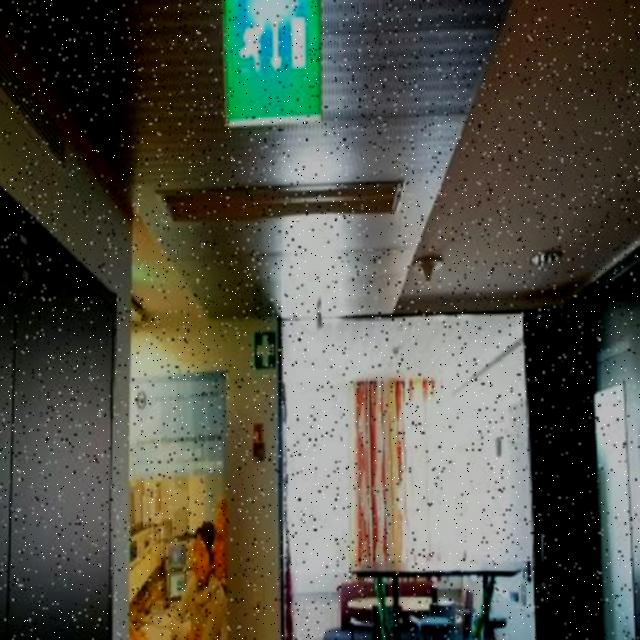emergency_exit: (221, 0, 324, 127)
